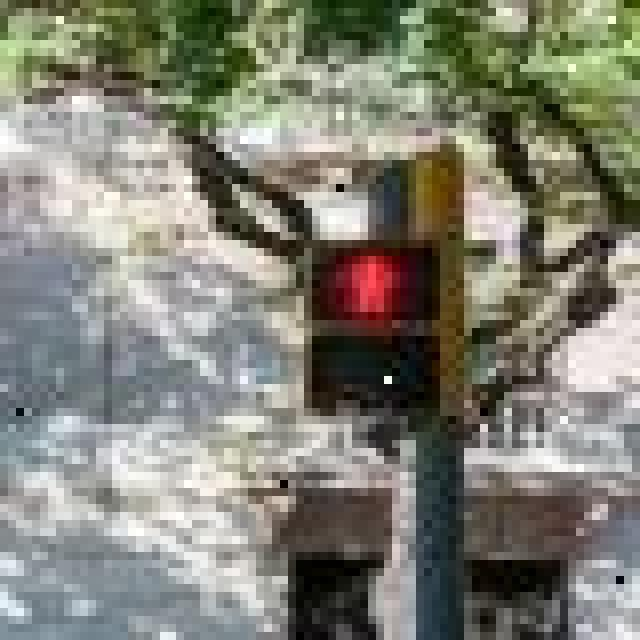redlight: (312, 232, 440, 400)
